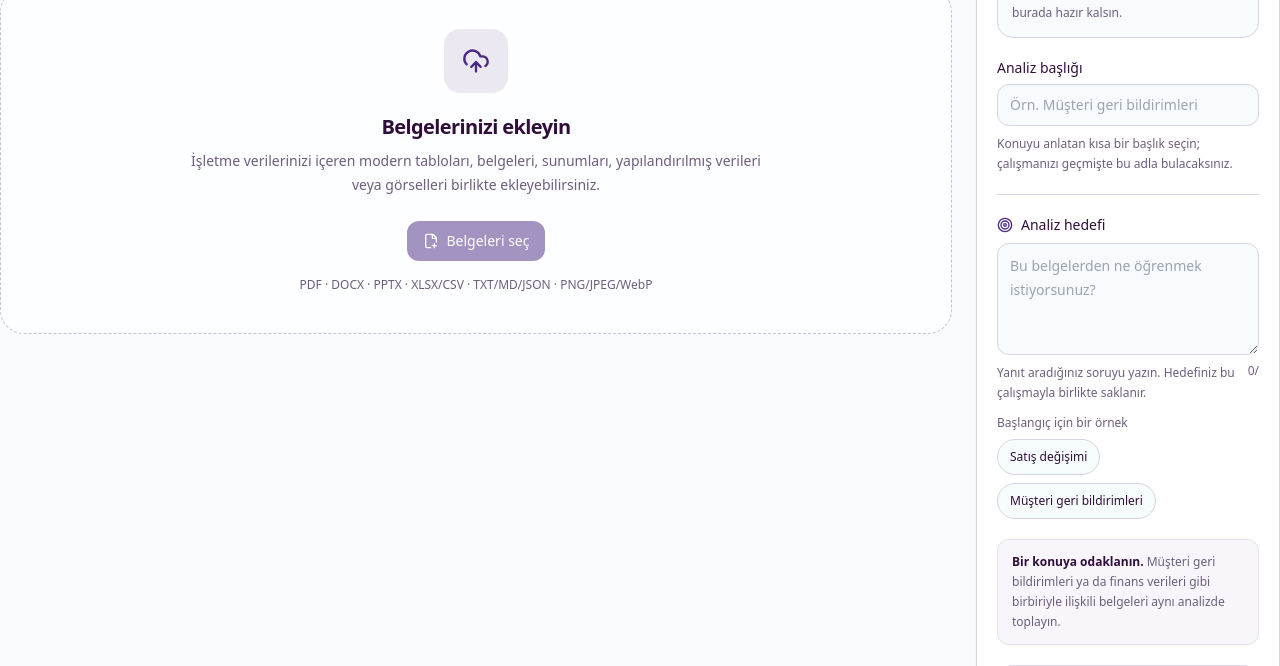
NewAnalysisPage › tr: örnek hedefi seçili dilde ekler; tekrar seçim ve dil değişiminden sonra özgün metni geri alır
(page scrolled)
Type "Özgün müşteri sorum" into the text box labelled "Analiz hedefi" at (1128, 299), box [997, 243, 1259, 355]
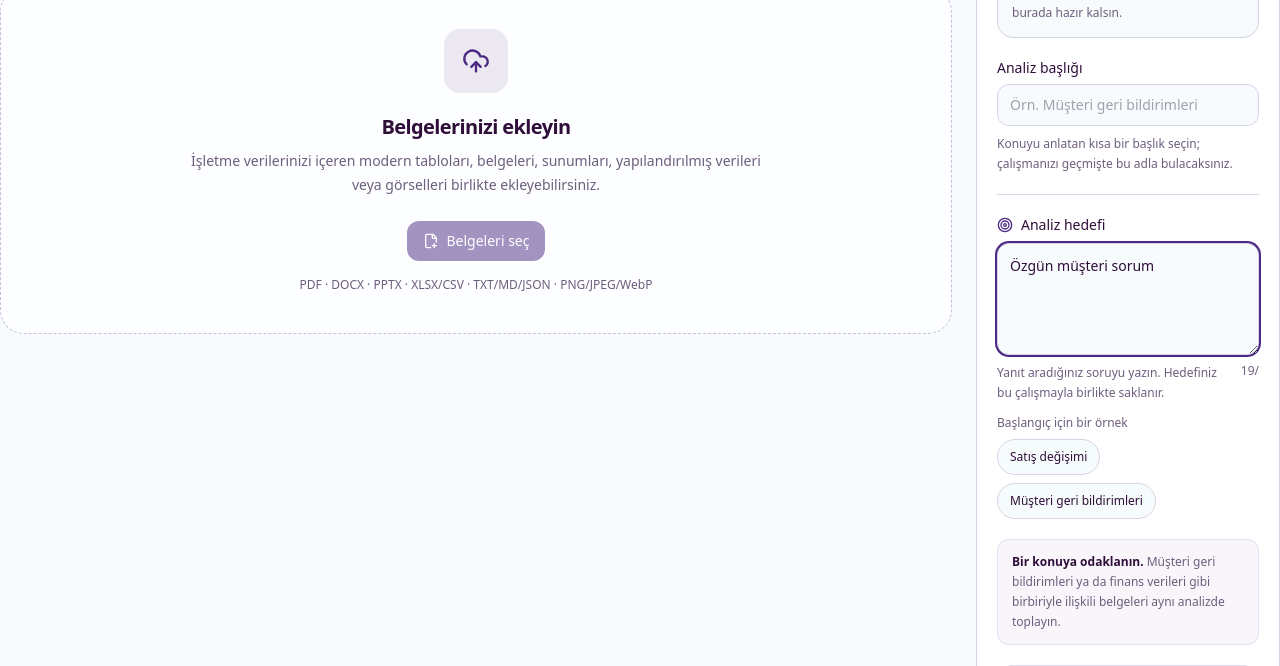
Click the button "Satış değişimi" at (1049, 457), box [997, 439, 1100, 475]
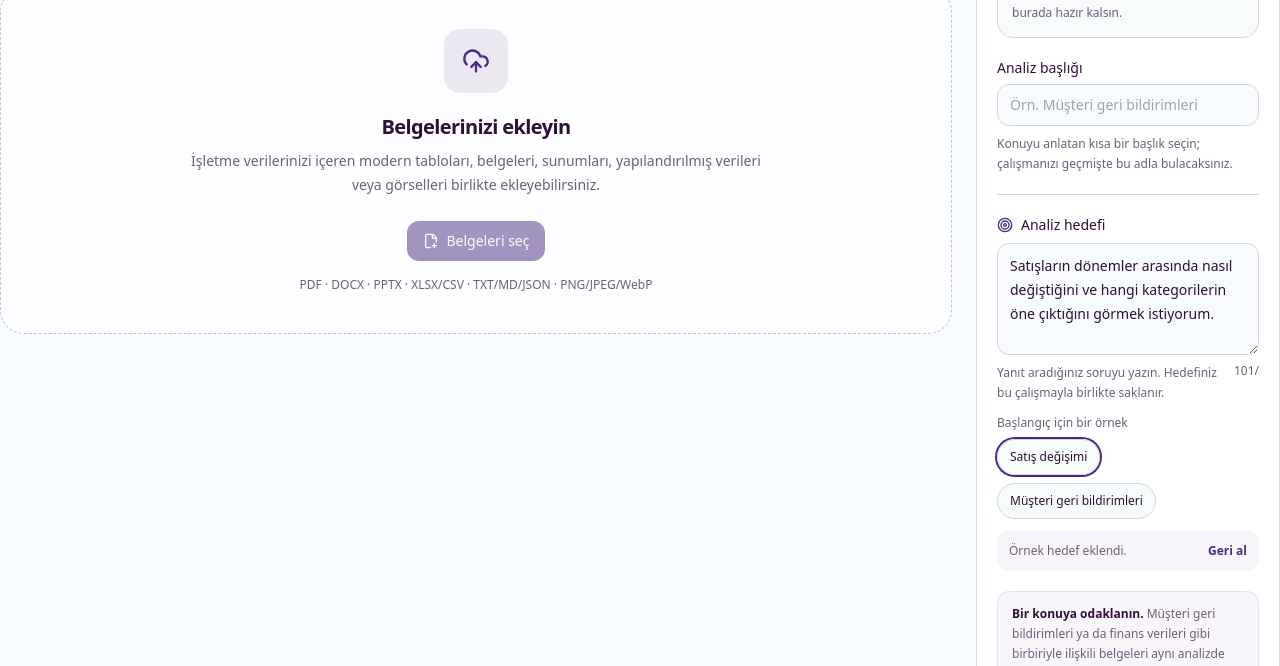
Check: the text box labelled "Analiz hedefi" holds "Satışların dönemler arasında nasıl değiştiğini ve hangi kategorilerin öne çıktığını görmek istiyorum.", box [997, 243, 1259, 355]
Click the button "Müşteri geri bildirimleri" at (1076, 501), box [997, 483, 1156, 519]
(page scrolled)
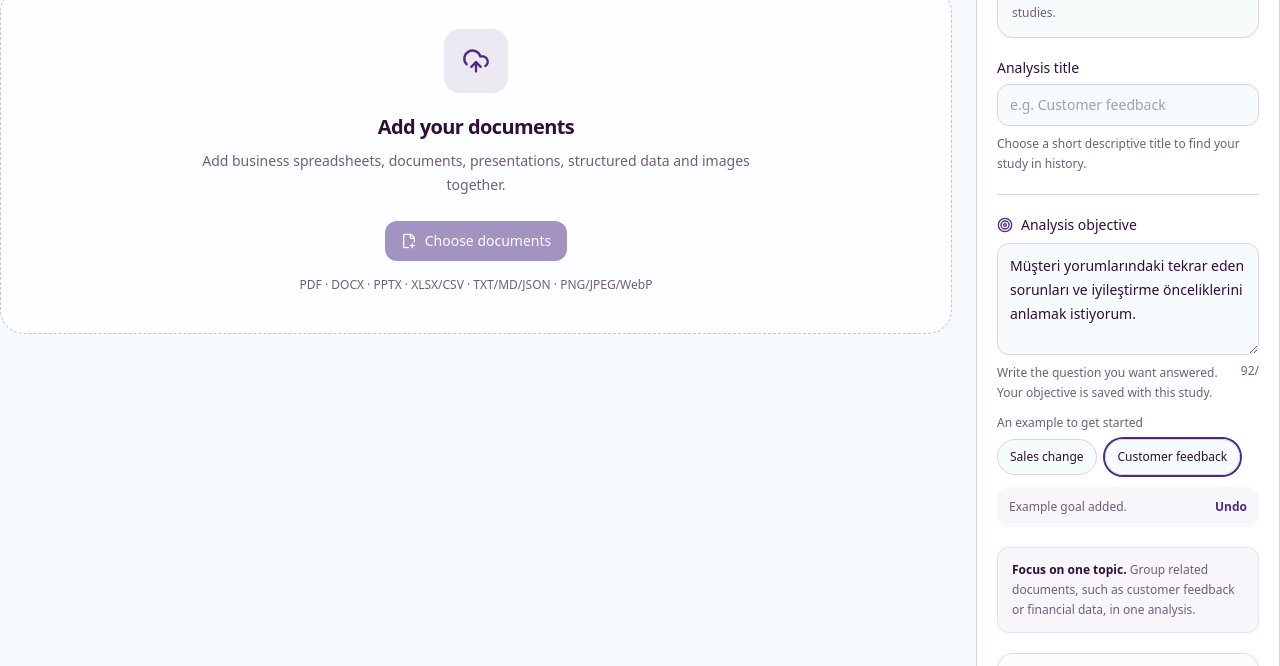
Check: the text box named "Analiz hedefi" holds "Müşteri yorumlarındaki tekrar eden sorunları ve iyileştirme önceliklerini anlamak istiyorum.", box [997, 243, 1259, 355]
Click the button "Undo" at (1231, 507), box [1207, 487, 1255, 527]
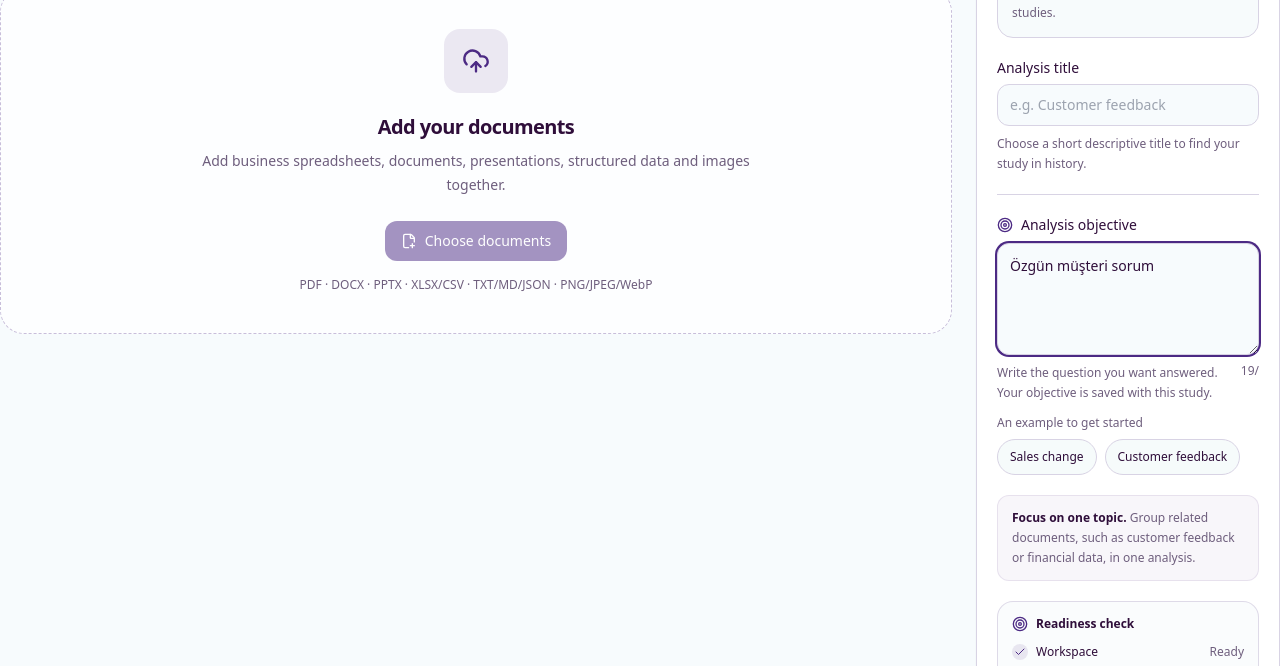
Check: the button "Undo" is gone
